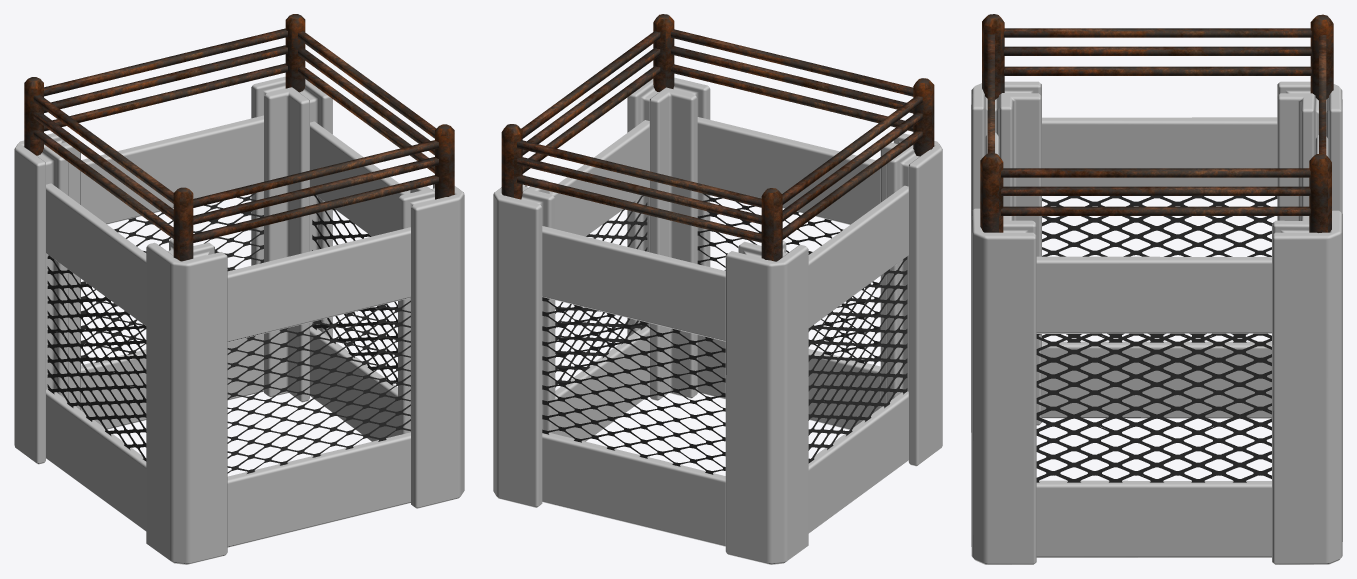
File: embrasure.fbx
3 views of the same model, side by side, from view 1: azimuth 30°, elevation 25°; view 2: azimuth 150°, elevation 25°; view 3: azimuth 270°, elevation 25° (orthographic). The views are drawn at different scales.
Visible parts, largest first — view 1: Cylinder.001, Cylinder.002, Cylinder.003; view 2: Cylinder.001, Cylinder.002, Cylinder.003; view 3: Cylinder.001, Cylinder.002, Cylinder.003.
Boxes of the visible parts, x1=… form: Cylinder.001: x1=14, y1=76, x2=464, y2=564; Cylinder.002: x1=24, y1=14, x2=454, y2=261; Cylinder.003: x1=47, y1=192, x2=410, y2=473; Cylinder.001: x1=493, y1=77, x2=942, y2=564; Cylinder.002: x1=501, y1=14, x2=934, y2=261; Cylinder.003: x1=542, y1=193, x2=907, y2=474; Cylinder.001: x1=971, y1=81, x2=1342, y2=564; Cylinder.002: x1=980, y1=14, x2=1333, y2=232; Cylinder.003: x1=1036, y1=196, x2=1277, y2=482.
Bounding box in the file's own units: 113 × 134 × 113.
